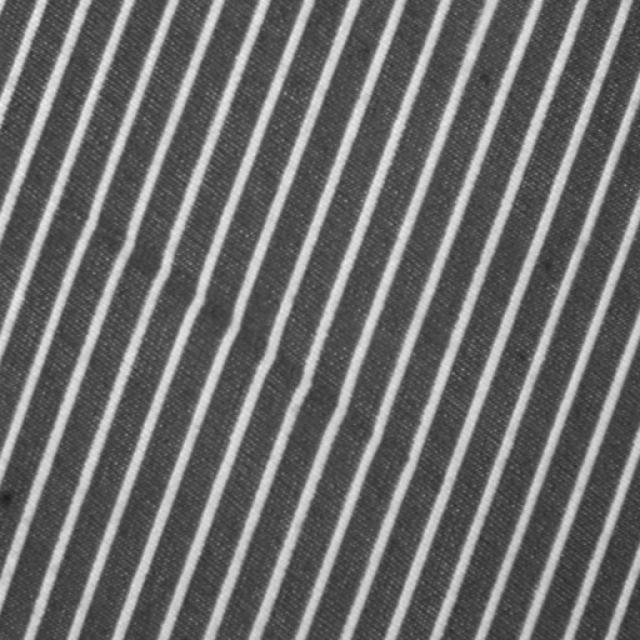Thread-Defect: (46, 182, 458, 496)
